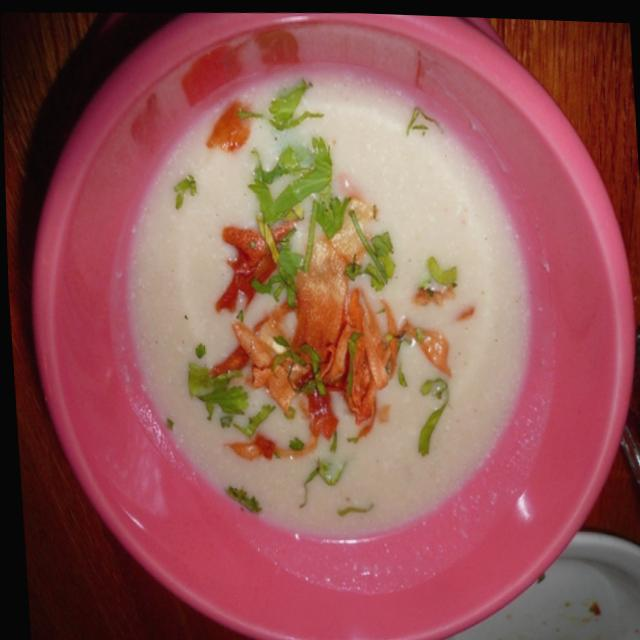汤锅炖物: (34, 7, 640, 638)
